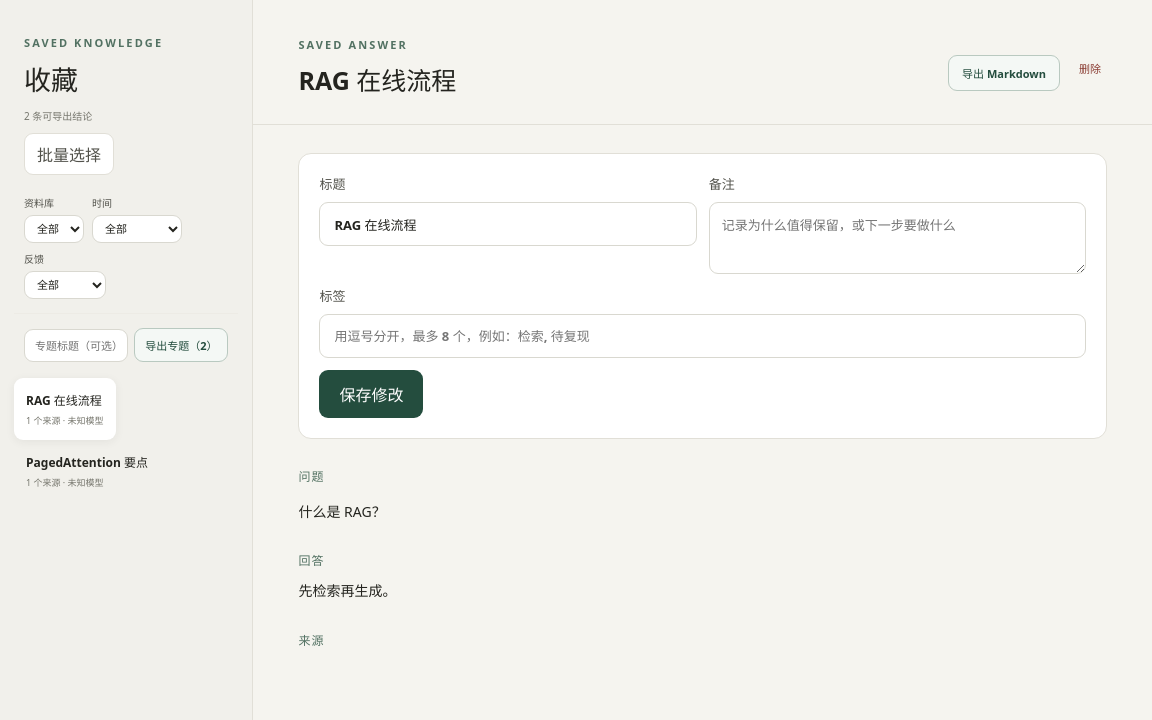
FavoritesPage 的批量删除 › 选择模式里点列表项是切换选中，确认后按选中 id 发请求
Click the button "批量选择": (69, 154) [24,133,114,175]
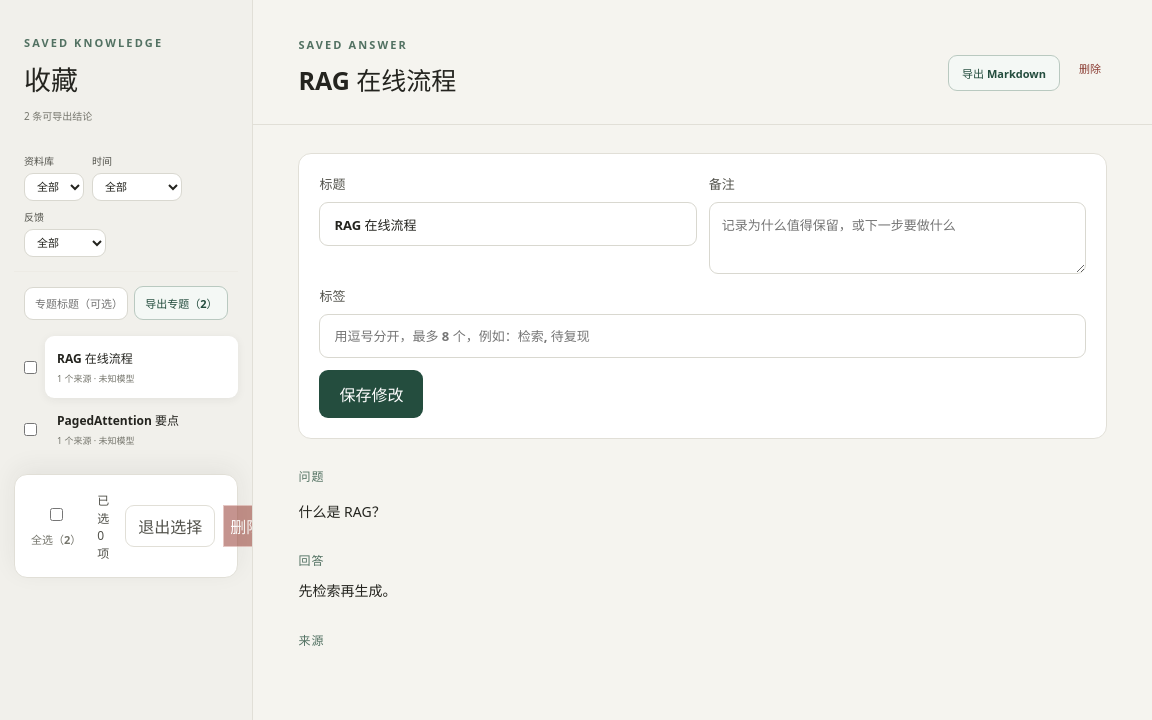
Click the button "PagedAttention 要点 1 个来源 · 未知模型": (142, 429) [45,398,238,460]
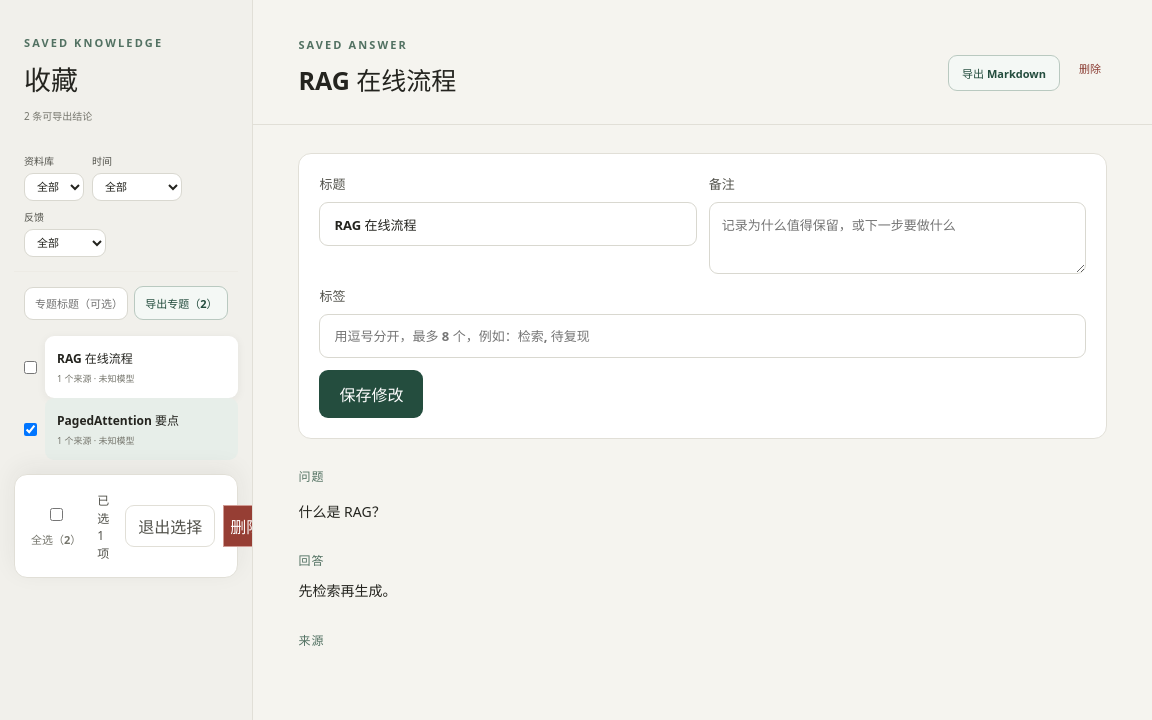
Check: the text "已选 1 项" is shown, box [97,490,109,562]
Click the button with test id "batch-confirm": (246, 526) [223,505,269,547]
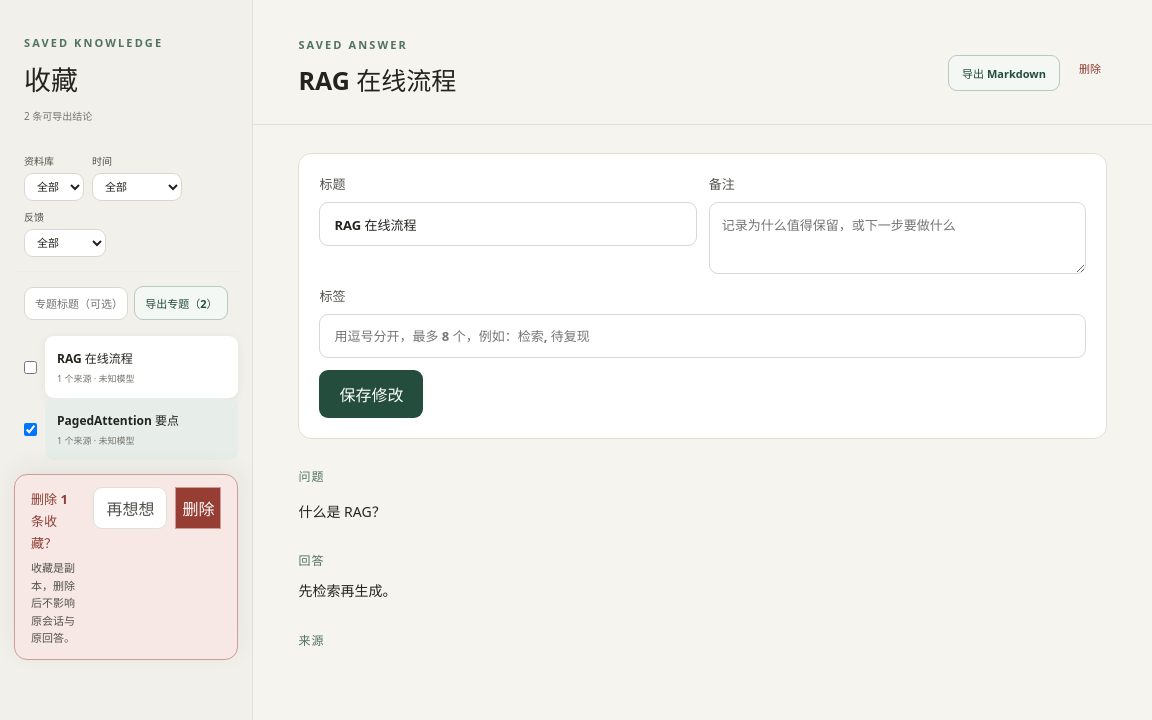
Check: the text "删除 1 条收藏？" is shown, box [31,490,68,552]
Check: the text "收藏是副本，删除后不影响原会话与原回答。" is shown, box [31,559,77,647]
Click the button with test id "batch-confirm" in the row of "删除 1 条收藏？": (198, 508) [175,487,221,529]
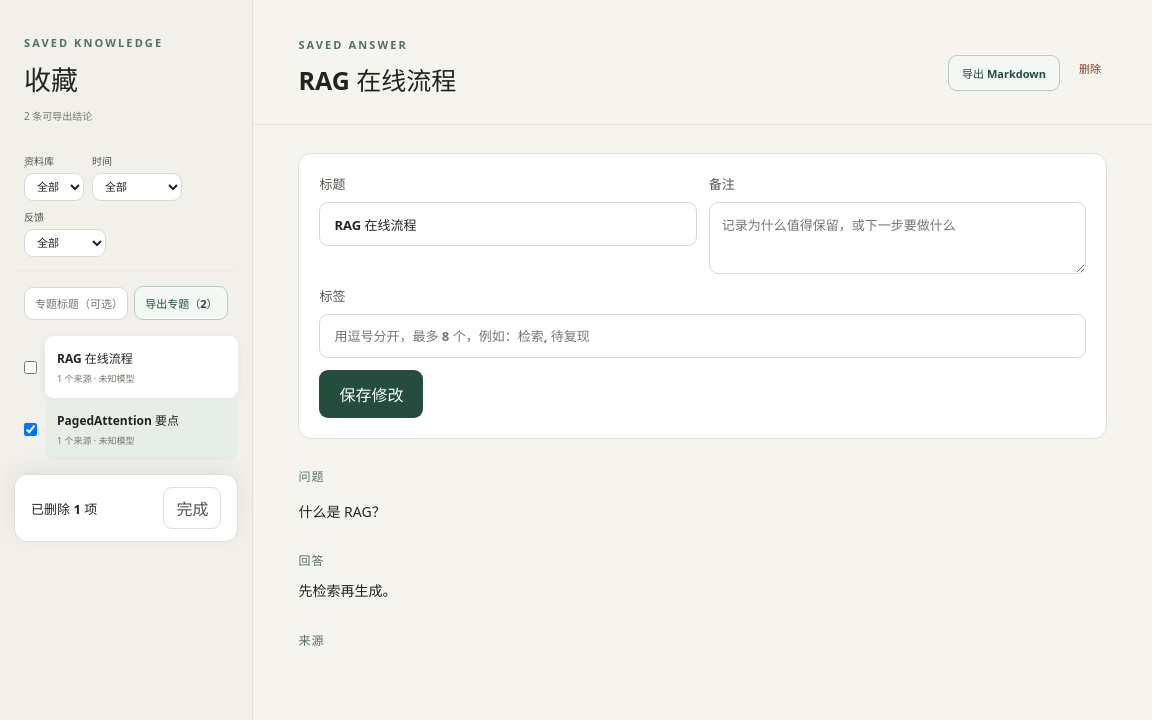
Check: the text "已删除 1 项" is shown, box [31,498,97,518]
